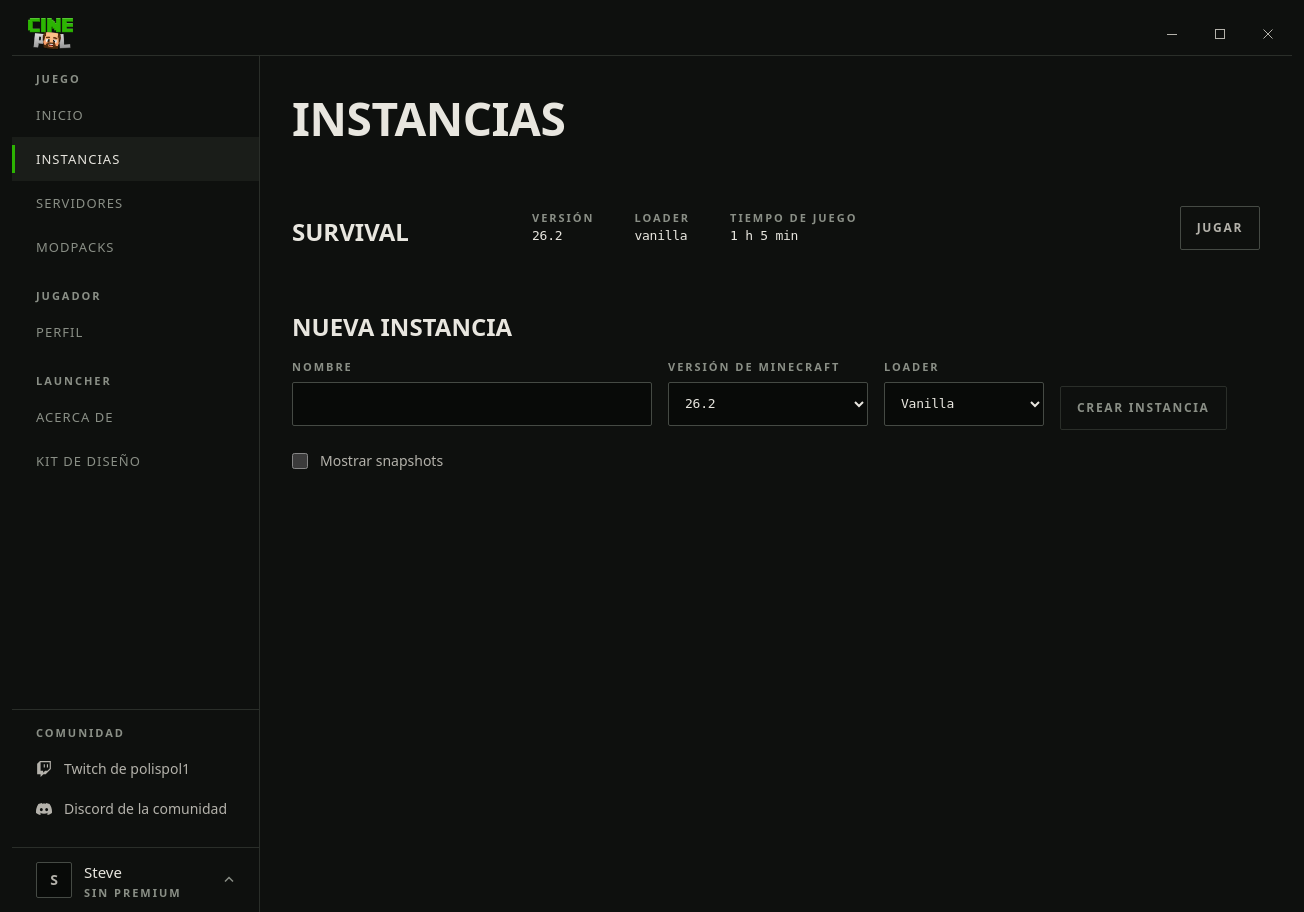
Test case: InstancesPage › opens an instance on its own page with servers, mods, settings and log tabs
Expected: the button "Jugar" is enabled, x1=1180 y1=206 x2=1260 y2=250
Expected: the button "Exportar .mrpack" is not shown
Click the link "Survival" at (350, 231), box x1=292 y1=215 x2=409 y2=248
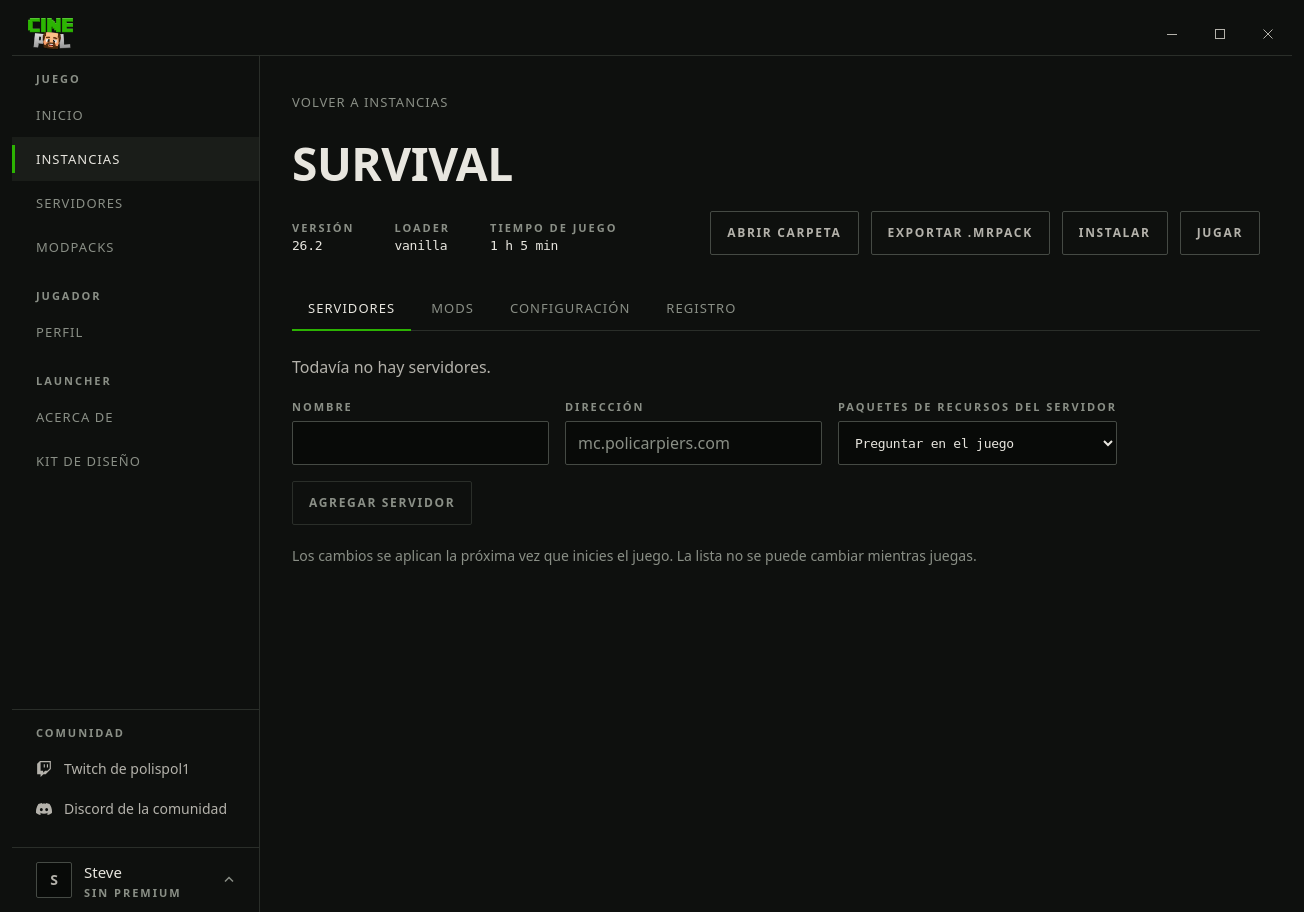
Expected: the text "1 h 5 min" is shown, x1=490 y1=238 x2=558 y2=253
Result: the heading "Survival" is shown at x1=292 y1=132 x2=513 y2=195
Result: the panel "servidores" shows "Todavía no hay servidores." at x1=292 y1=356 x2=491 y2=378
Press ArrowRight in the tab "Servidores", box x1=292 y1=287 x2=411 y2=331
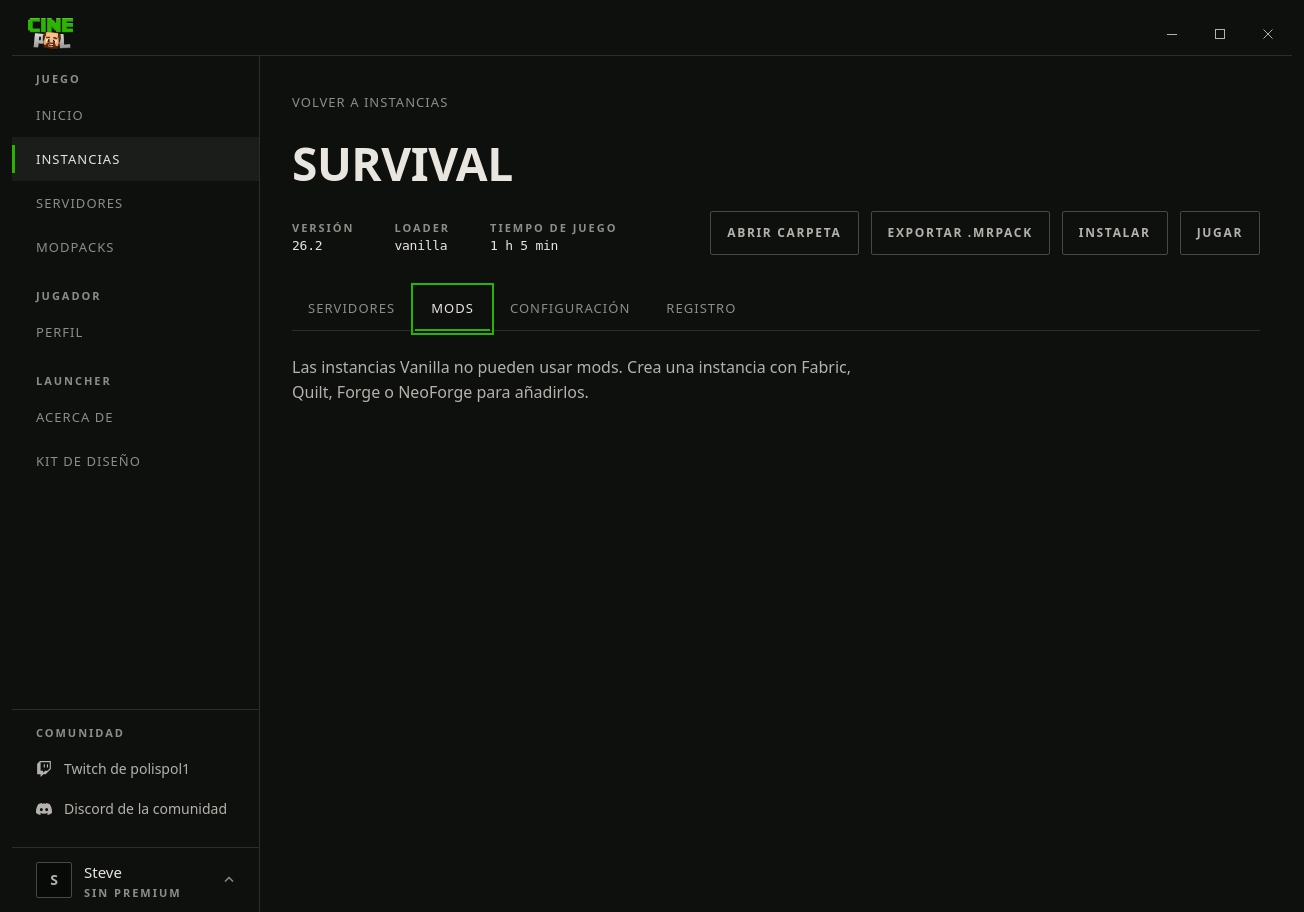
Press ArrowRight in the tab "Mods", box x1=415 y1=287 x2=490 y2=331
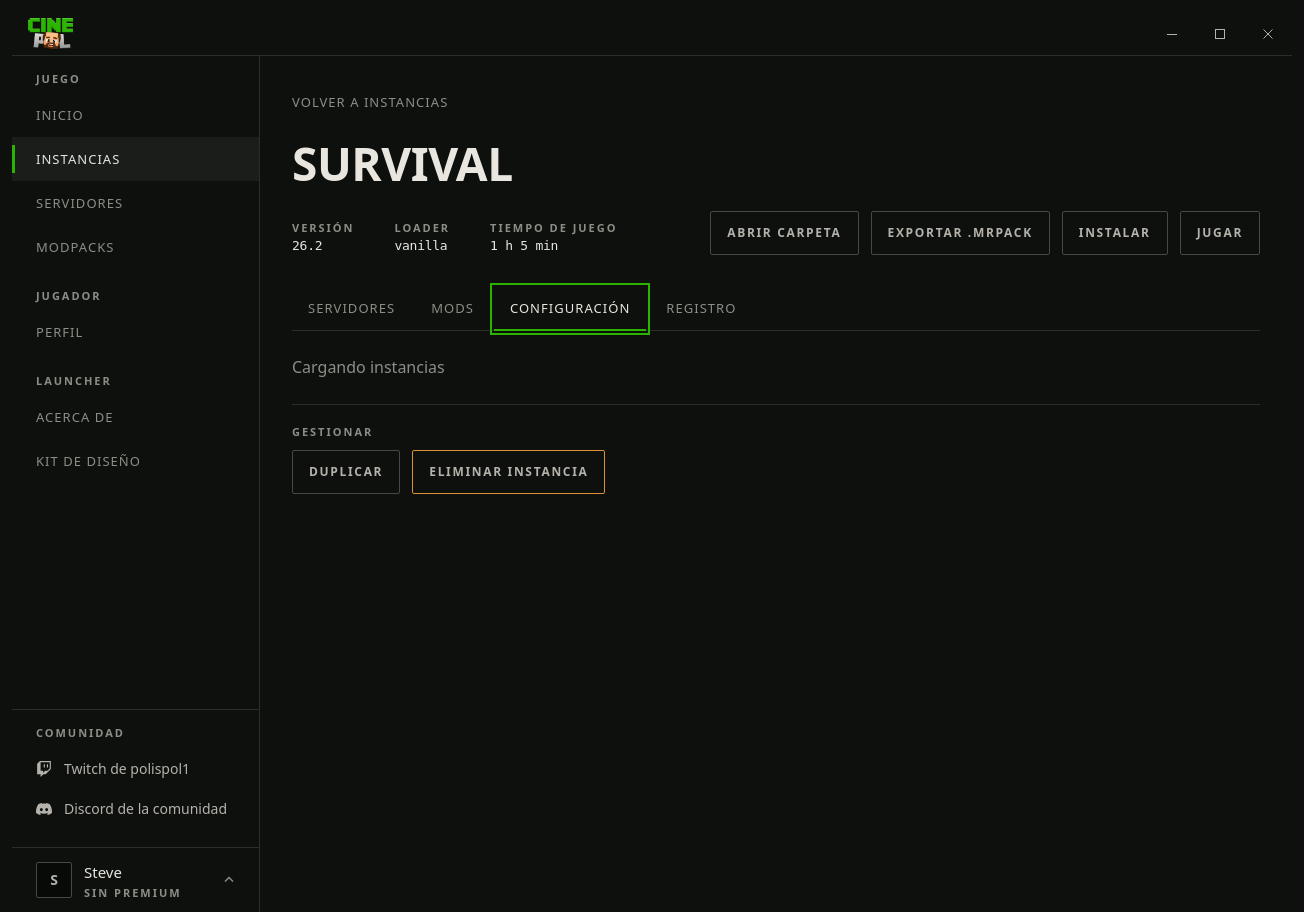
Result: the element named "Configuración de la instancia" is shown at x1=292 y1=355 x2=1260 y2=506
Click the tab "Registro" at (701, 309), box x1=650 y1=287 x2=752 y2=331
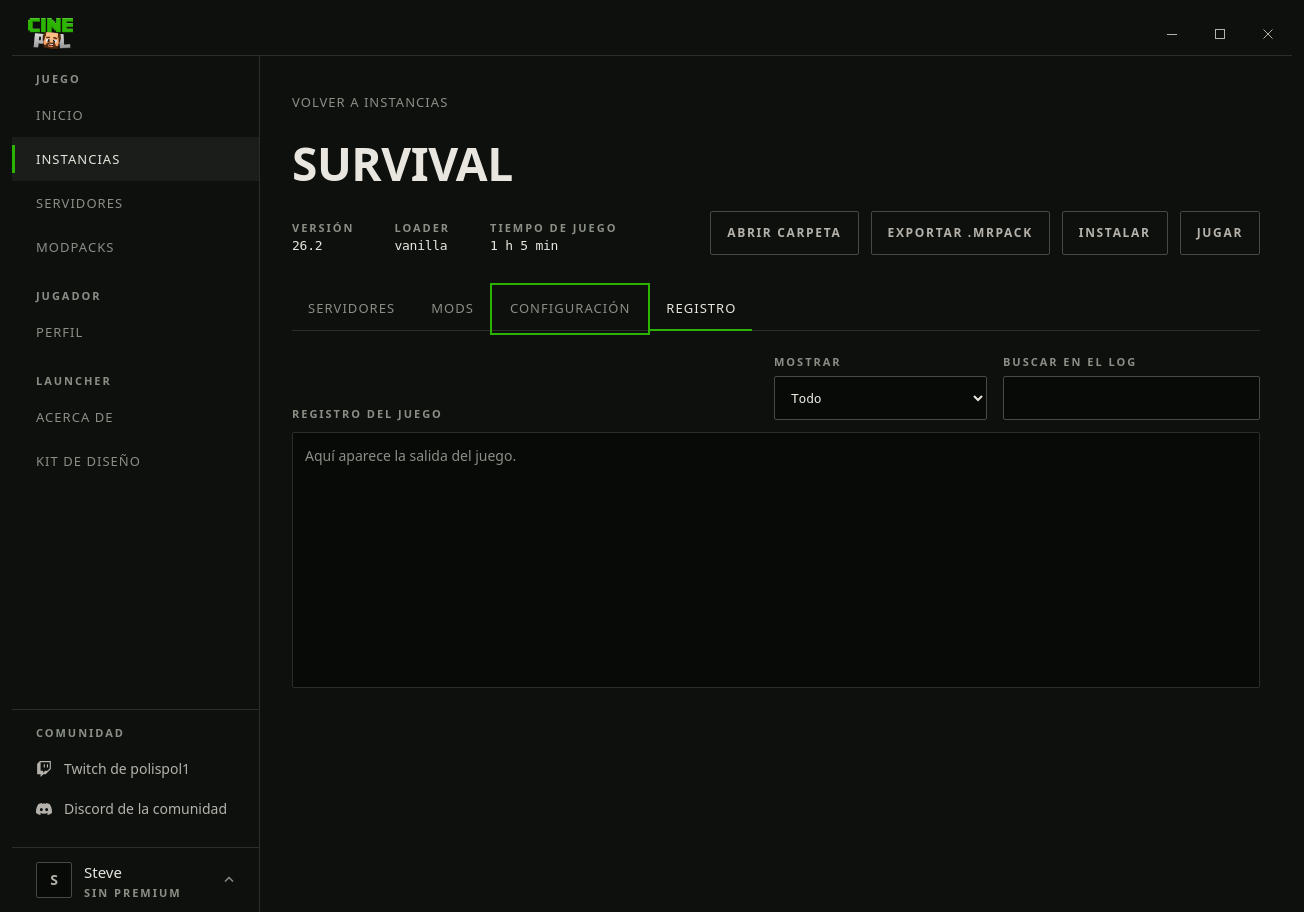
Result: the panel "Registro" shows "Aquí aparece la salida del juego." at x1=305 y1=446 x2=516 y2=465
Click the link "Volver a Instancias" at (370, 102), box x1=292 y1=96 x2=448 y2=109
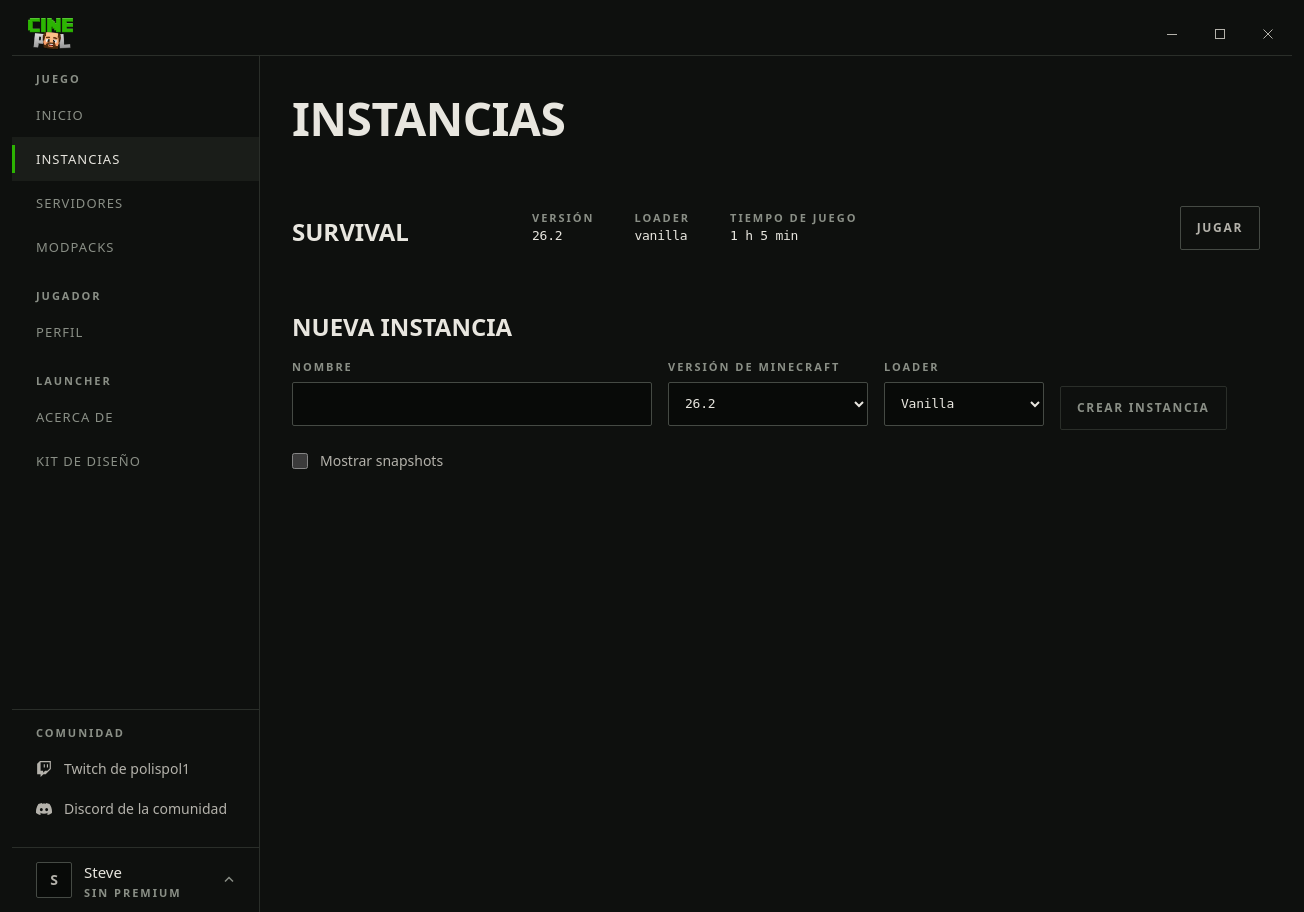
Result: the heading "Instancias" is shown at x1=292 y1=87 x2=565 y2=150
